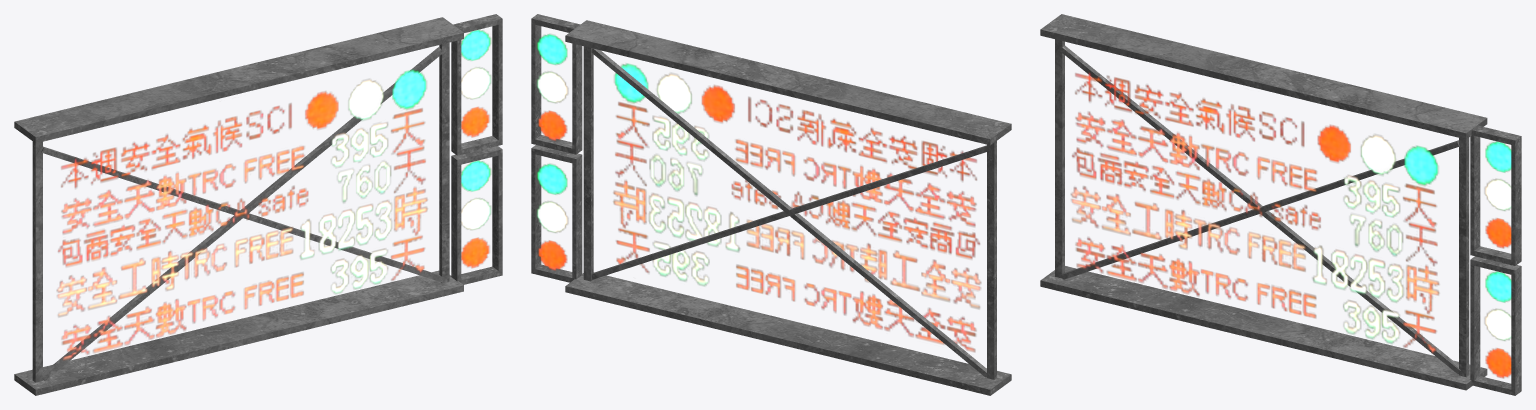
File: tw_led_board.glb
3 views of the same model, side by side, from view 1: azimuth 30°, elevation 25°; view 2: azimuth 150°, elevation 25°; view 3: azimuth 330°, elevation 25° (orthographic).
Visible parts, largest first — view 1: tw_led_board; view 2: tw_led_board; view 3: tw_led_board.
Part boxes in pixels (x1=…): tw_led_board: x1=14, y1=14, x2=502, y2=395; tw_led_board: x1=531, y1=14, x2=1011, y2=395; tw_led_board: x1=1040, y1=14, x2=1521, y2=395.
Size of the model in its own units: 3 by 1.57 by 0.2342.
2 materials, 2 textured.
